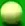white: (0, 0, 25, 26)
